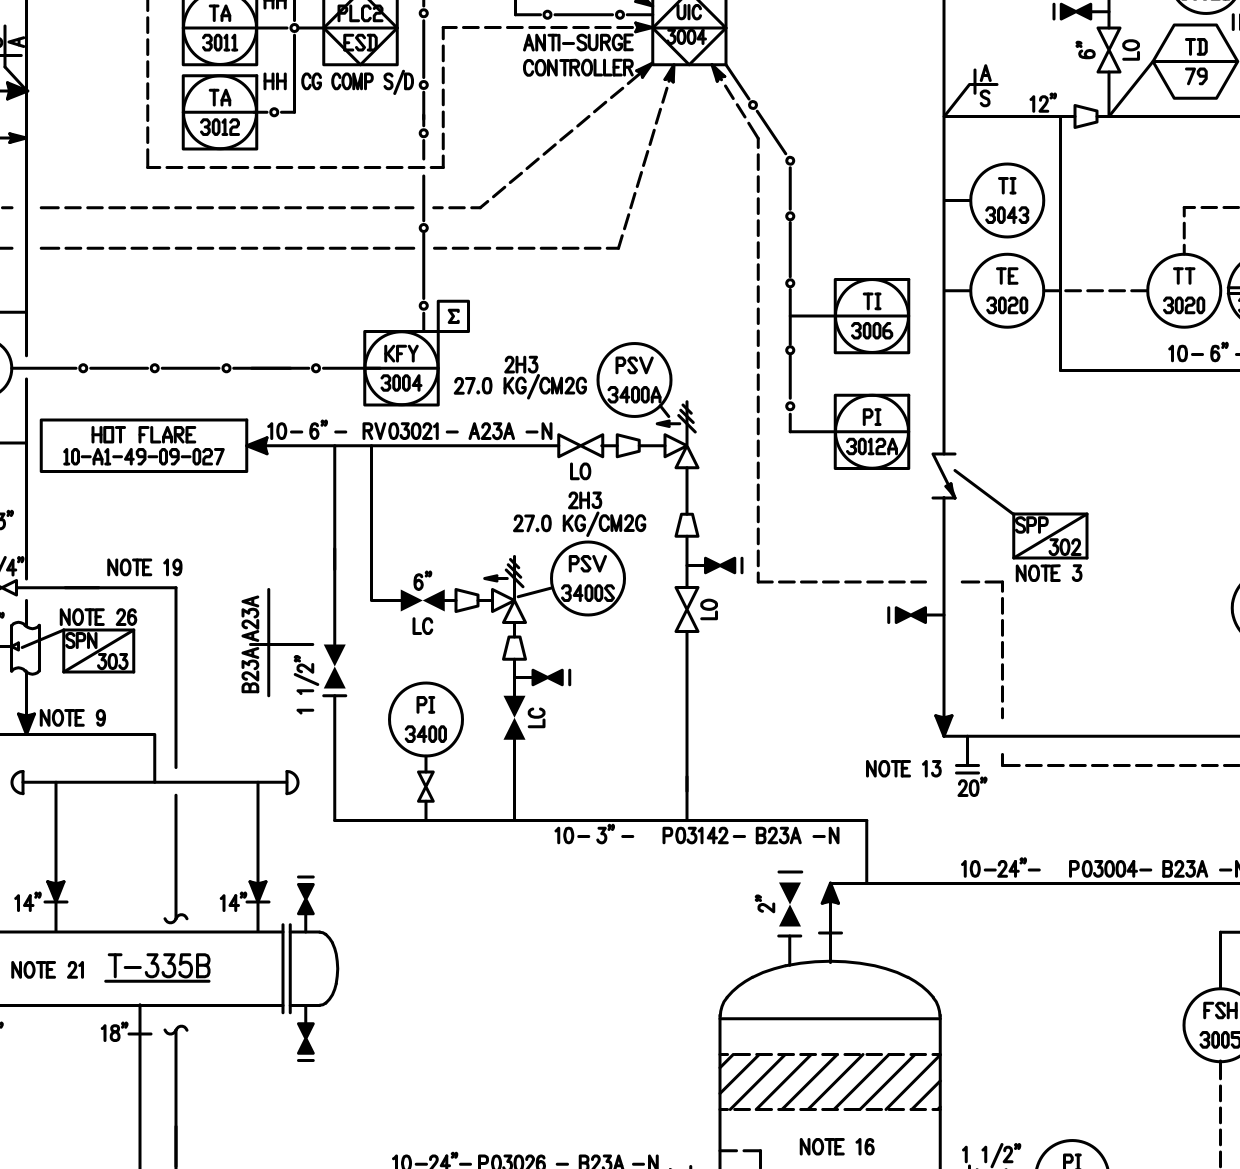Check Valve: (927, 447, 967, 504)
Instrument Tag: (383, 677, 467, 761), (547, 538, 632, 622), (830, 274, 914, 358), (830, 389, 914, 474), (967, 248, 1051, 332), (592, 335, 675, 419), (360, 327, 444, 411), (1143, 250, 1227, 334), (965, 160, 1049, 244), (179, 70, 262, 154), (178, 1, 260, 70)
Line Number: (551, 822, 845, 851), (957, 853, 1240, 880), (267, 419, 556, 441), (389, 1150, 663, 1169)
PSV: (483, 549, 533, 628), (652, 396, 702, 475)
Reducer: (1068, 100, 1103, 133), (611, 430, 646, 463), (669, 508, 704, 541), (498, 632, 532, 665), (453, 582, 487, 615)
Valve: (1093, 20, 1131, 81), (669, 581, 707, 642), (555, 431, 608, 459), (409, 766, 443, 811)
